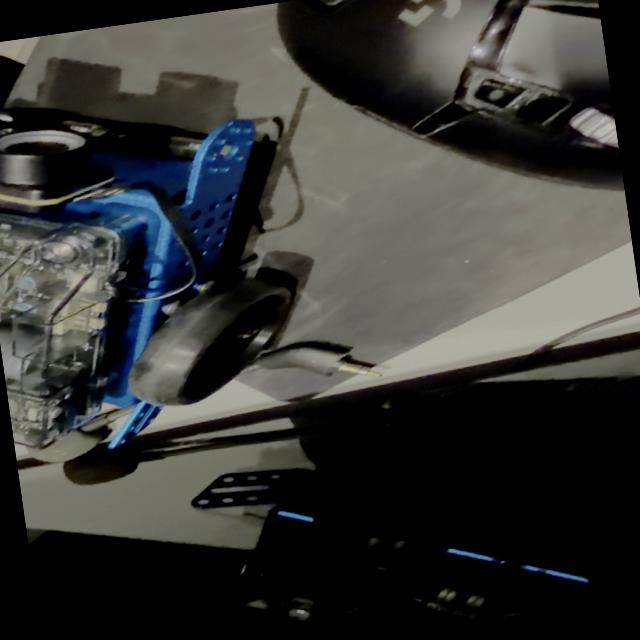mbot-detection: (0, 60, 322, 474)
